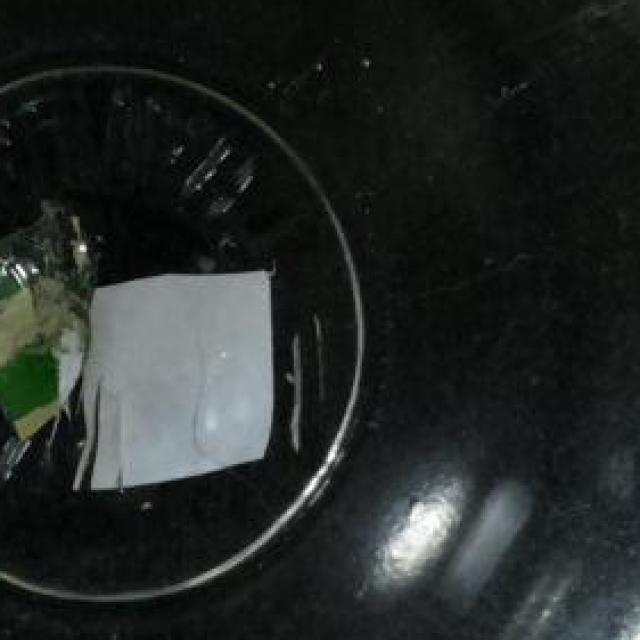Microplastic: (84, 250, 303, 514), (0, 195, 89, 474)
